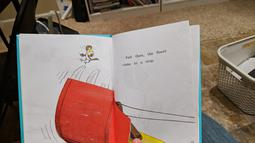text block: (119, 47, 172, 70)
